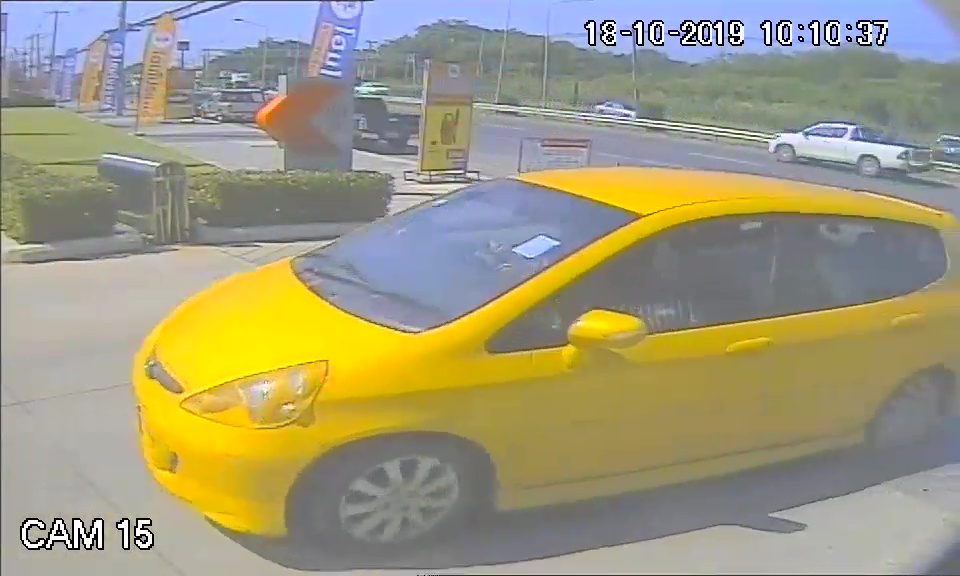sedan: (128, 164, 960, 548)
